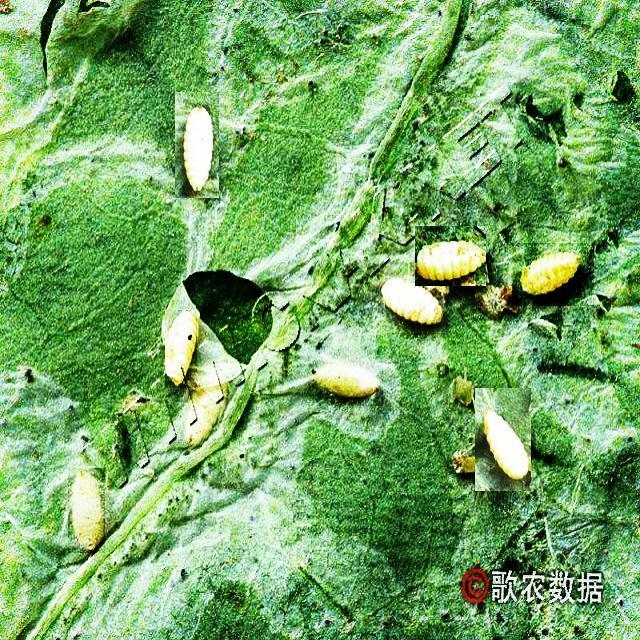whorl-maggot: (475, 388, 531, 491), (512, 243, 594, 306), (379, 261, 446, 333), (175, 92, 219, 198), (308, 346, 383, 406), (415, 227, 486, 287), (68, 468, 105, 553), (166, 310, 197, 388)
